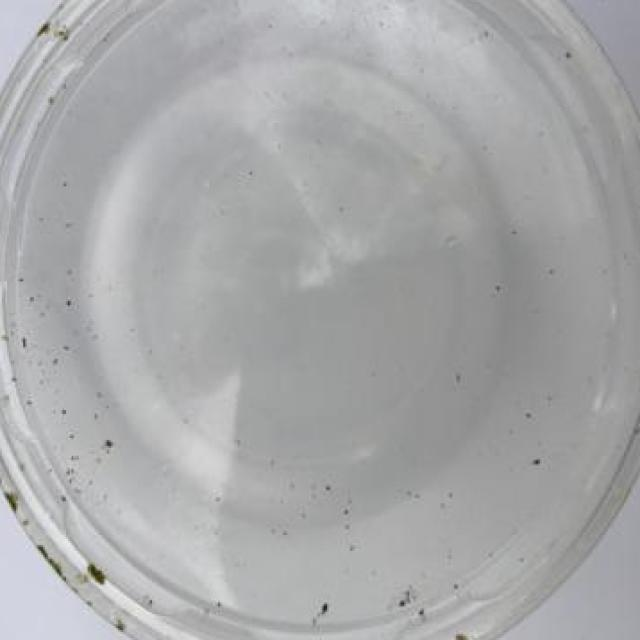organic: (6, 3, 631, 624)
